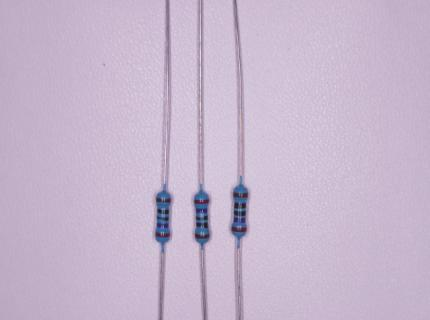Black band: (234, 211, 246, 217), (234, 202, 246, 208), (196, 222, 207, 228), (157, 208, 168, 214), (196, 215, 208, 220), (157, 216, 169, 221)
Brown band: (195, 233, 210, 239), (233, 191, 248, 197), (156, 197, 170, 202)
Red band: (232, 226, 247, 232), (155, 232, 170, 237), (194, 199, 208, 204)
Violet band: (157, 222, 169, 228), (234, 217, 246, 223), (195, 208, 207, 213)
